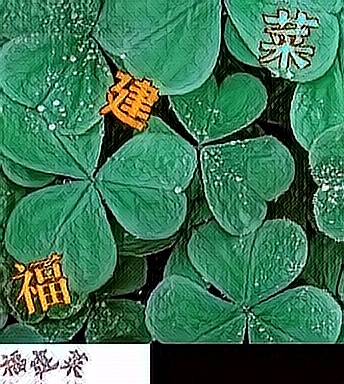B2CB: (256, 9, 318, 73)
B8A3: (11, 252, 73, 316)
BDA8: (98, 68, 160, 132)
